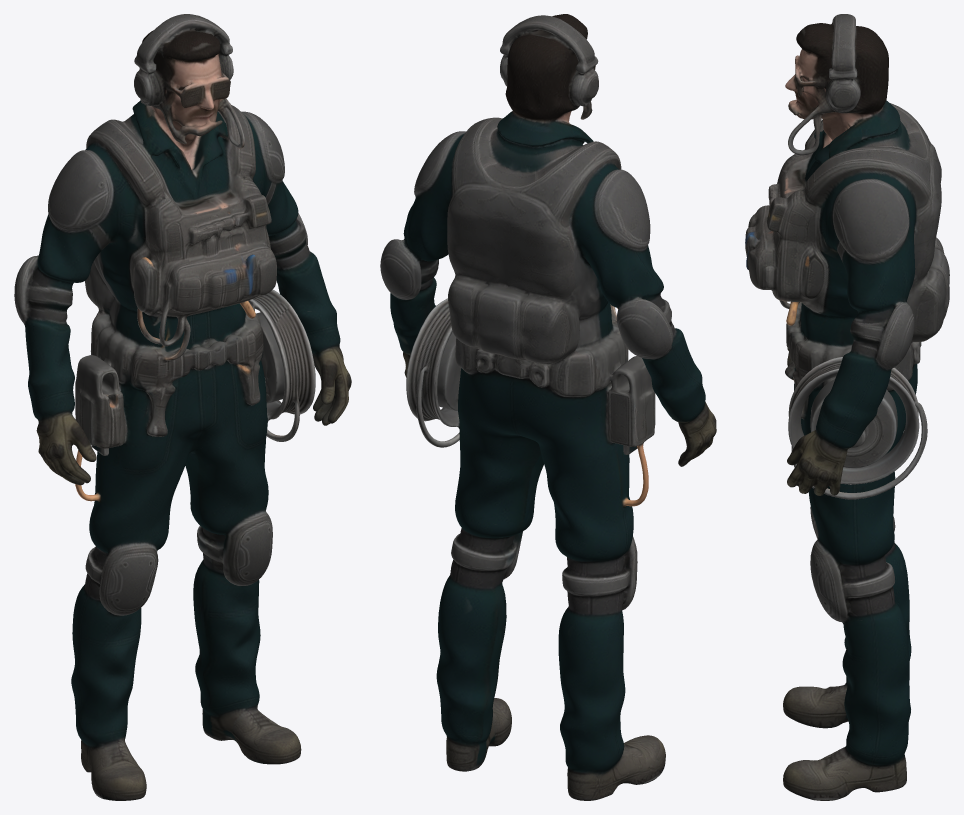
The model's file is relay_operator_tactical_dispatcher.fbx.
The picture shows the model from 3 angles, left to right: view 1: azimuth 30°, elevation 25°; view 2: azimuth 150°, elevation 25°; view 3: azimuth 270°, elevation 25°; orthographic projection.
Parts seen in each view (by area): view 1: relay_operator_tactical_dispatcher; view 2: relay_operator_tactical_dispatcher; view 3: relay_operator_tactical_dispatcher.
Part boxes in pixels (x1,y1,x2,y2): relay_operator_tactical_dispatcher: (14,14,351,800); relay_operator_tactical_dispatcher: (380,14,716,800); relay_operator_tactical_dispatcher: (745,14,949,800).
Size of the model in its own units: 80.82 by 190 by 47.78.
Materials: 1 (1 with a texture image).
